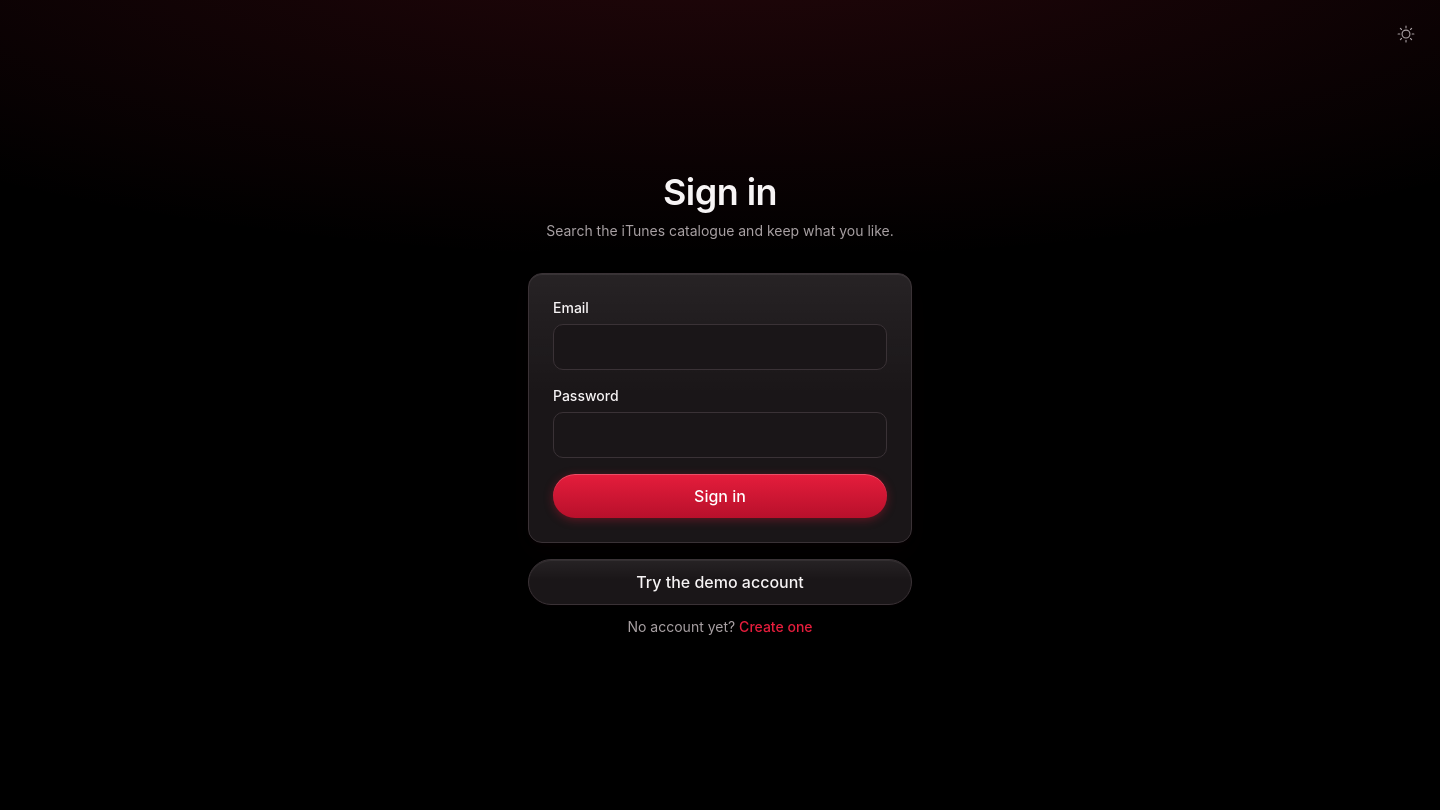
Test case: signing in › shows what the server said when the details are wrong
Step 1. Type "jordan.blake@example.test" into the field labelled "Email" → (720, 347), box left=553, top=324, right=887, bottom=370
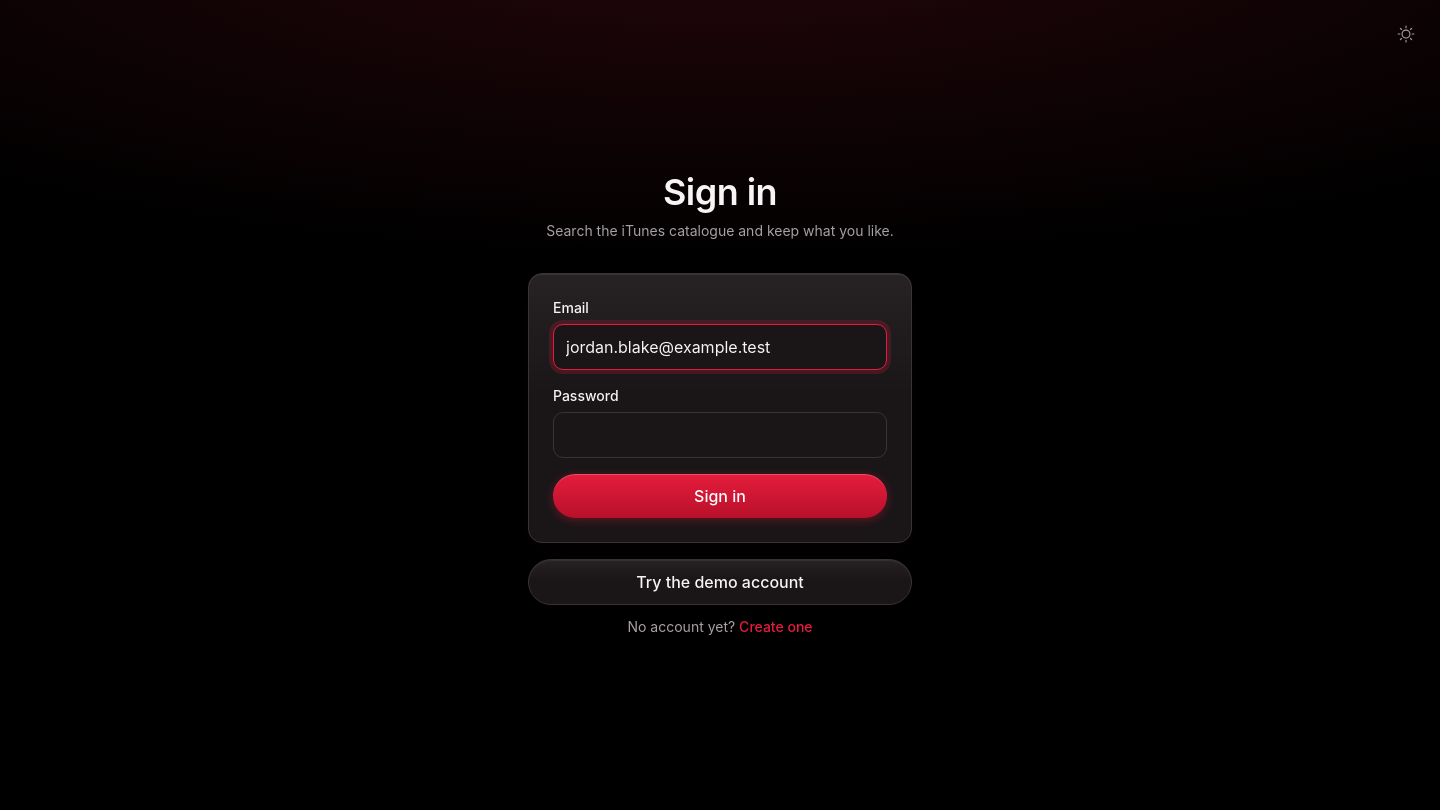
Step 2. Type "wrong-horse" into the password field labelled "Password" → (720, 436), box left=553, top=412, right=887, bottom=458
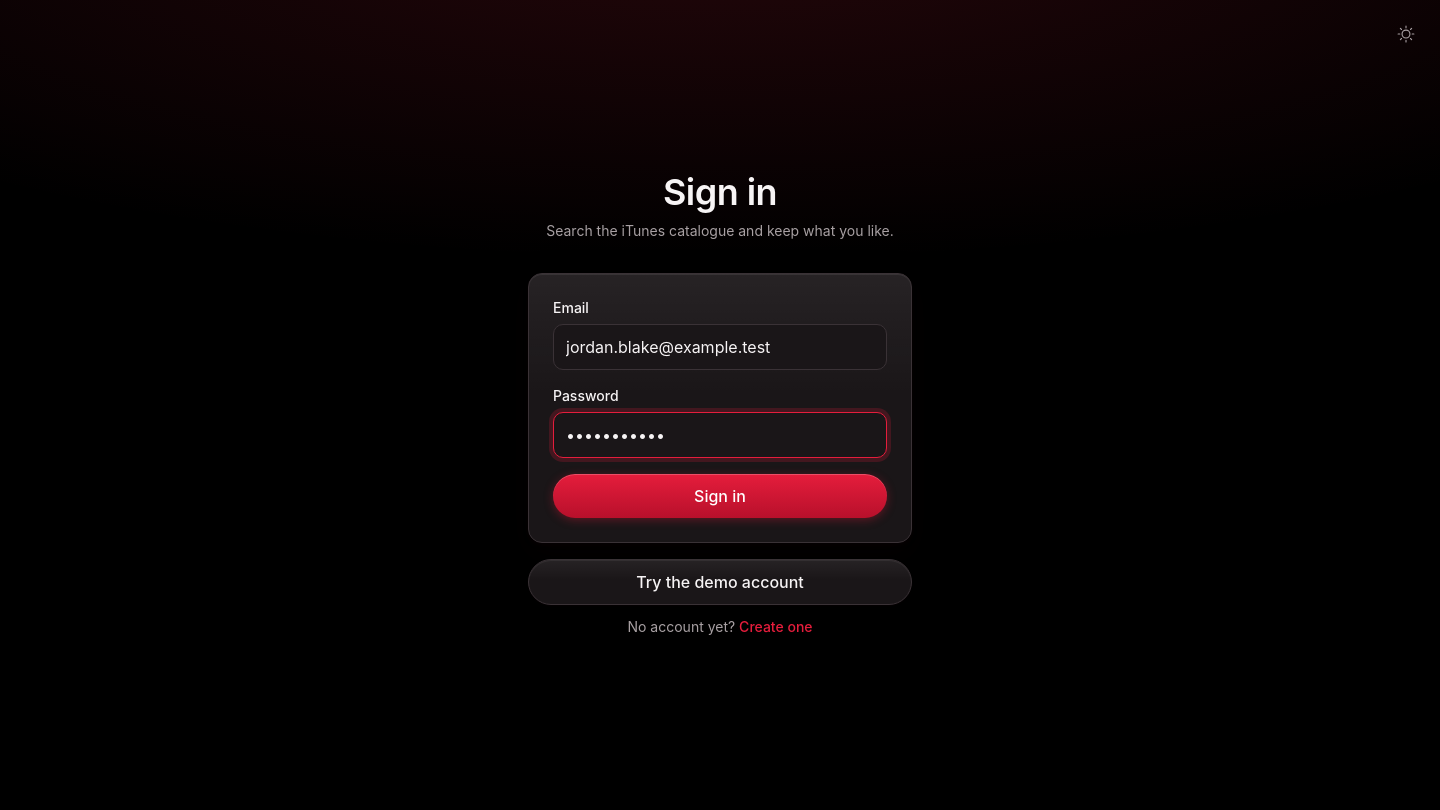
Step 3. Click the button "Sign in" → (720, 496), box left=553, top=474, right=887, bottom=518
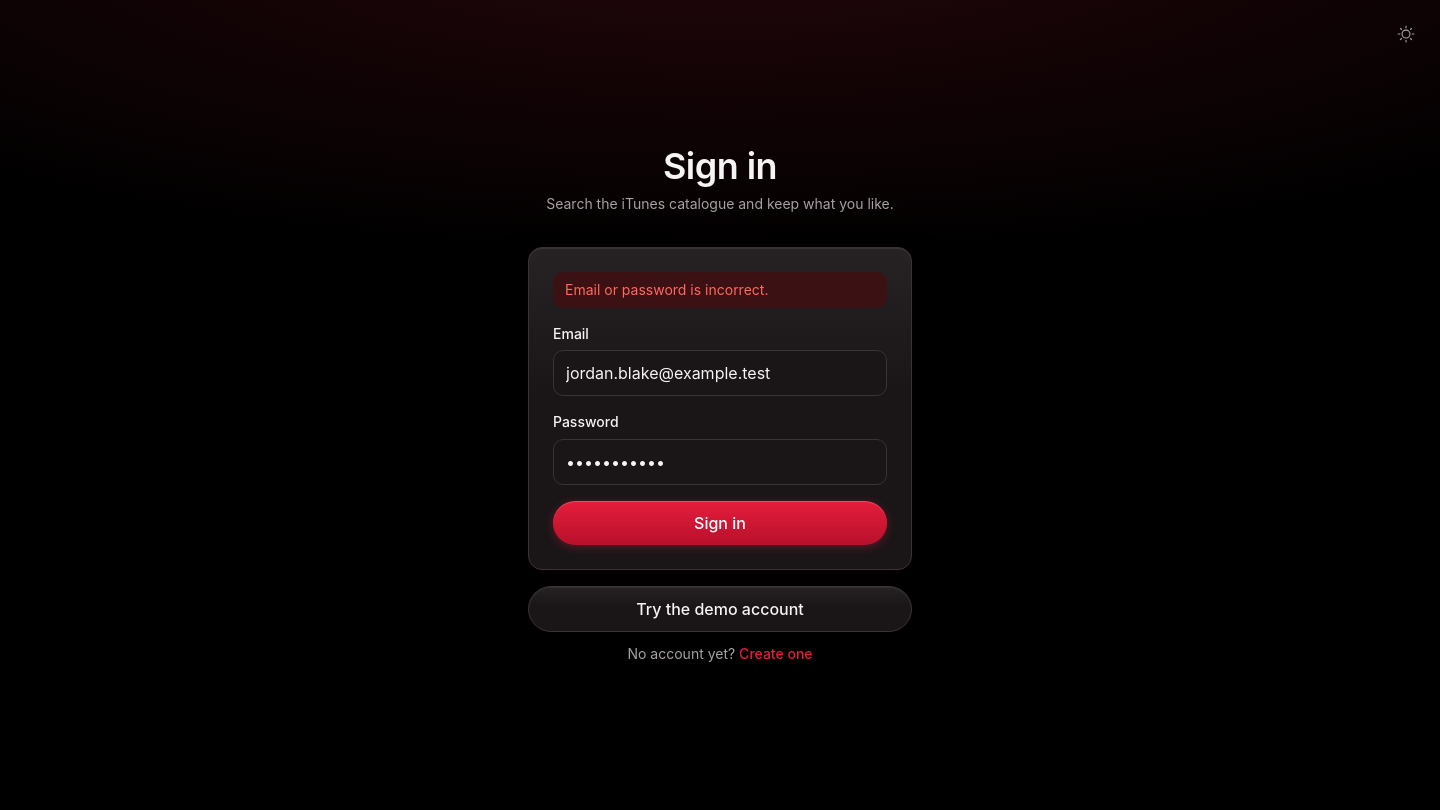
Expected: the message shows "Email or password is incorrect", left=565, top=281, right=768, bottom=298
